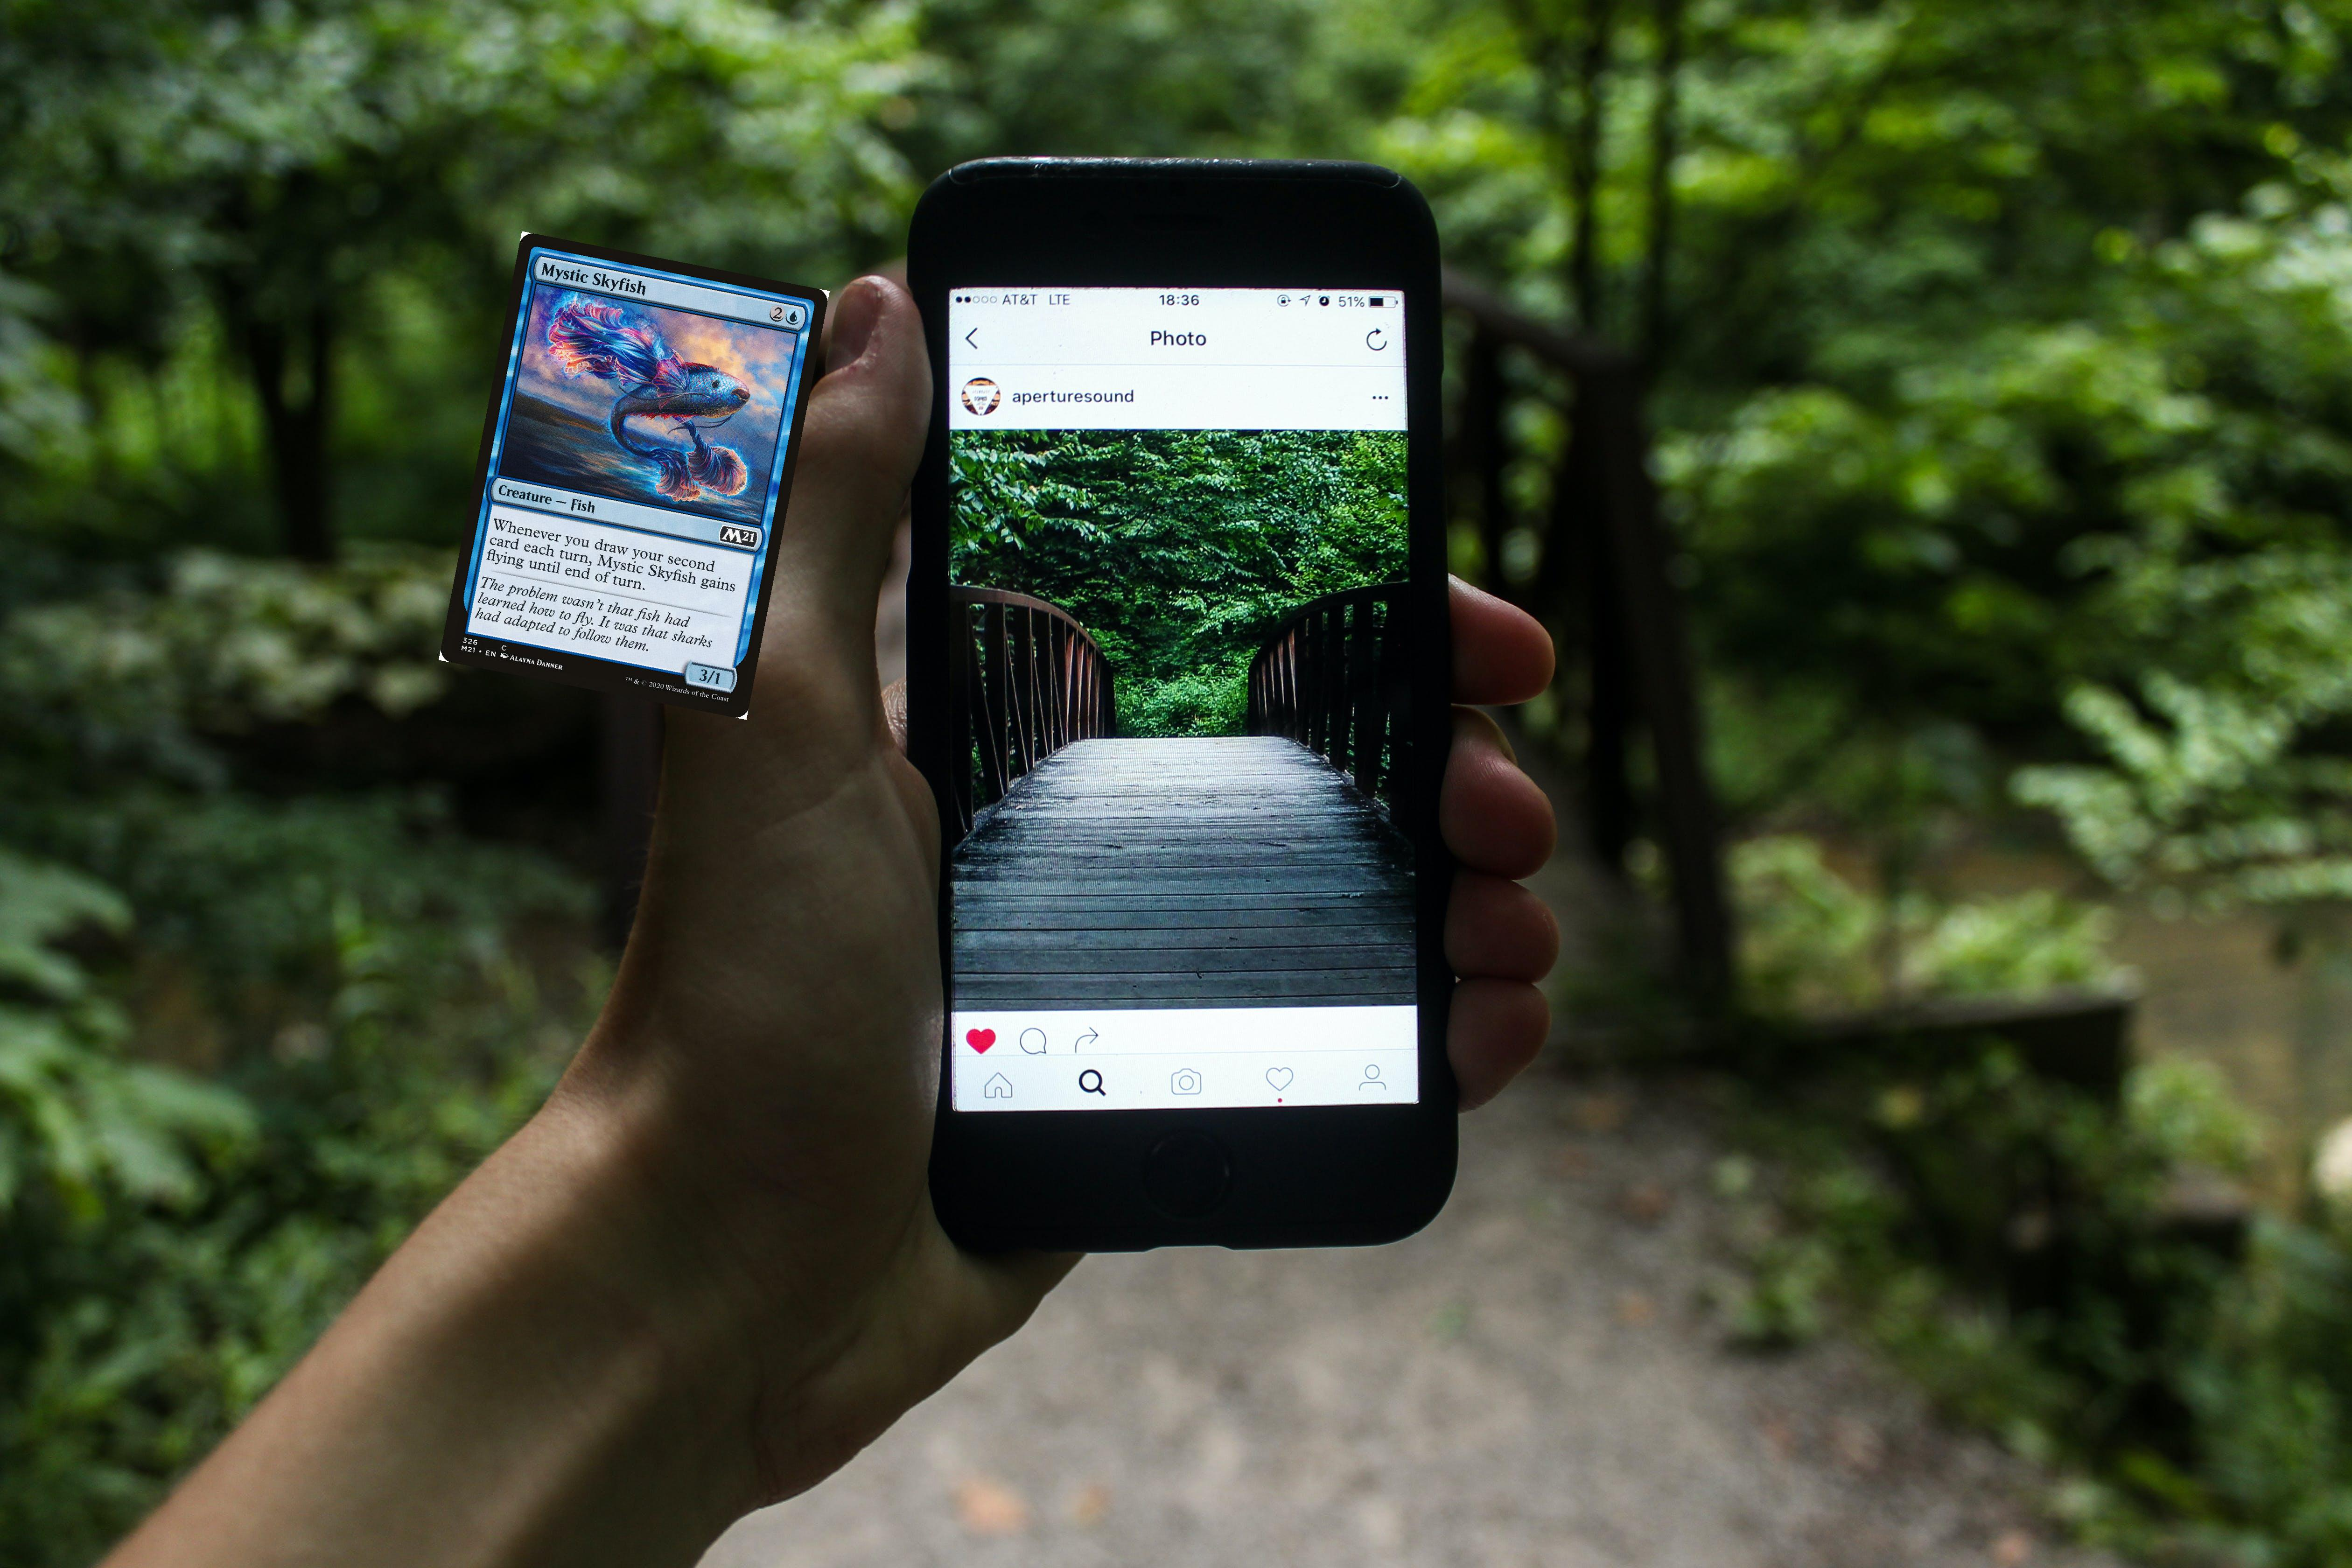mtgCard: (437, 231, 829, 719)
